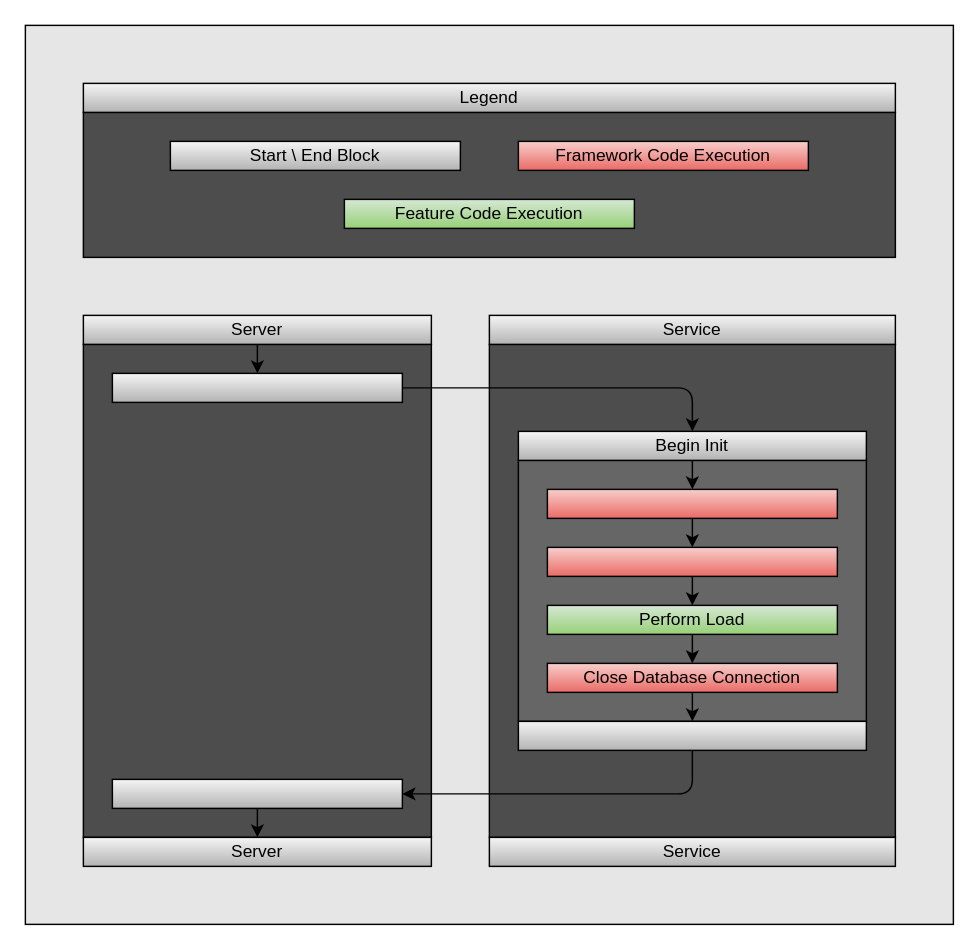
Some shapes in this 979 by 950 pixel diagram are drawn without their labels. The centre of each missing label's shape, as x and y in pixels:
"Begin Invoke Service Init" belongs at pixel 256 387.
"Create Data Response" belongs at pixel 691 503.
"End Init" belongs at pixel 691 735.
"End Invoke Service Init" belongs at pixel 256 793.
"Open Database Connection" belongs at pixel 691 561.
